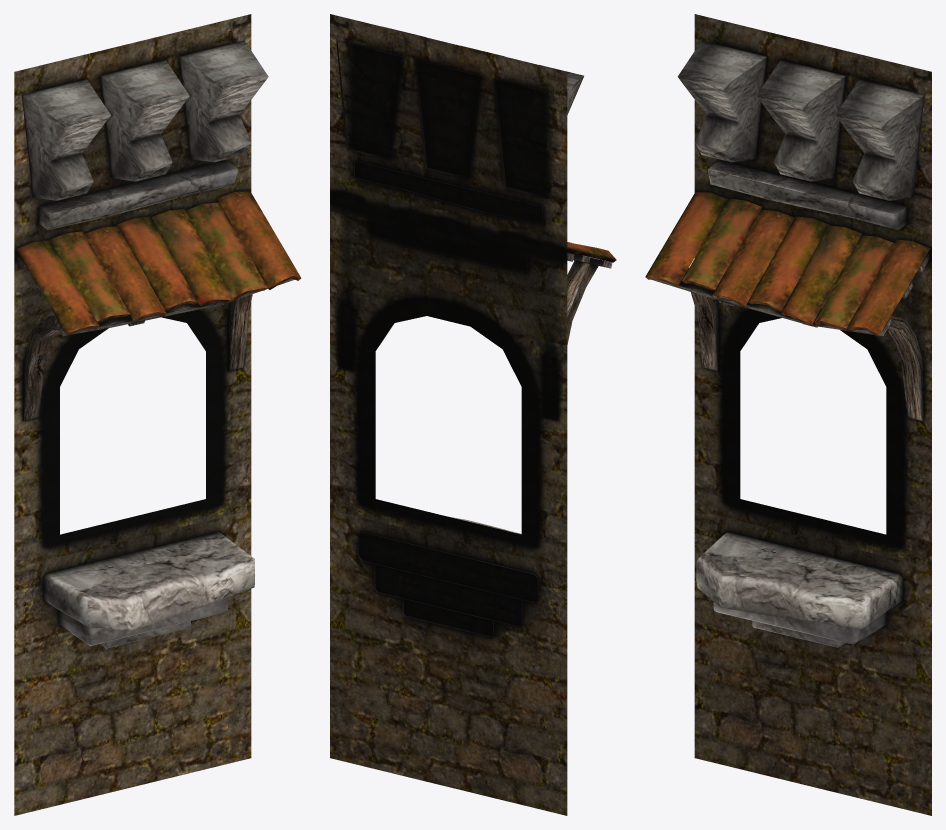
File: outside_wall_window.dae
3 renders of one model, left to right at view 1: azimuth 30°, elevation 25°; view 2: azimuth 150°, elevation 25°; view 3: azimuth 330°, elevation 25°, orthographic.
Parts seen in each view (by area): view 1: polySurface686; view 2: polySurface686; view 3: polySurface686.
Part boxes in pixels (x1,y1,x2,y2): polySurface686: (14,14,301,815); polySurface686: (330,14,616,815); polySurface686: (645,14,931,815).
Size of the model in its own units: 4 by 12 by 1.61.
